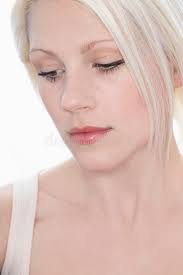s.white: (89, 76, 149, 134)
